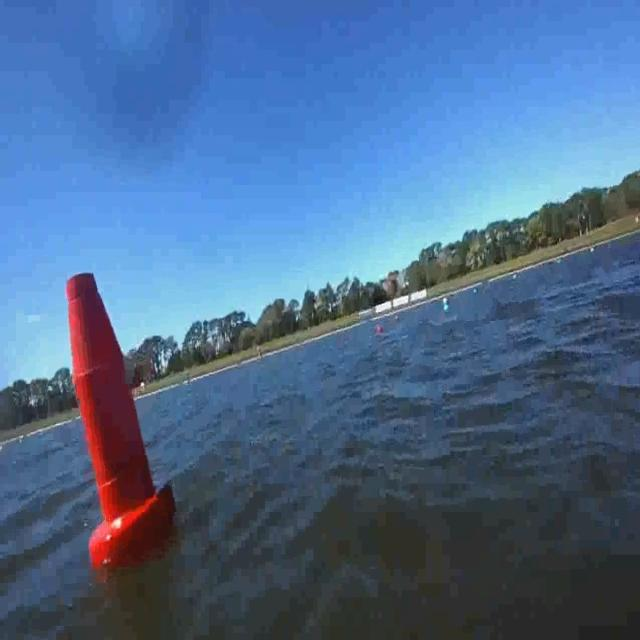red-column-buoy: (62, 273, 179, 570)
